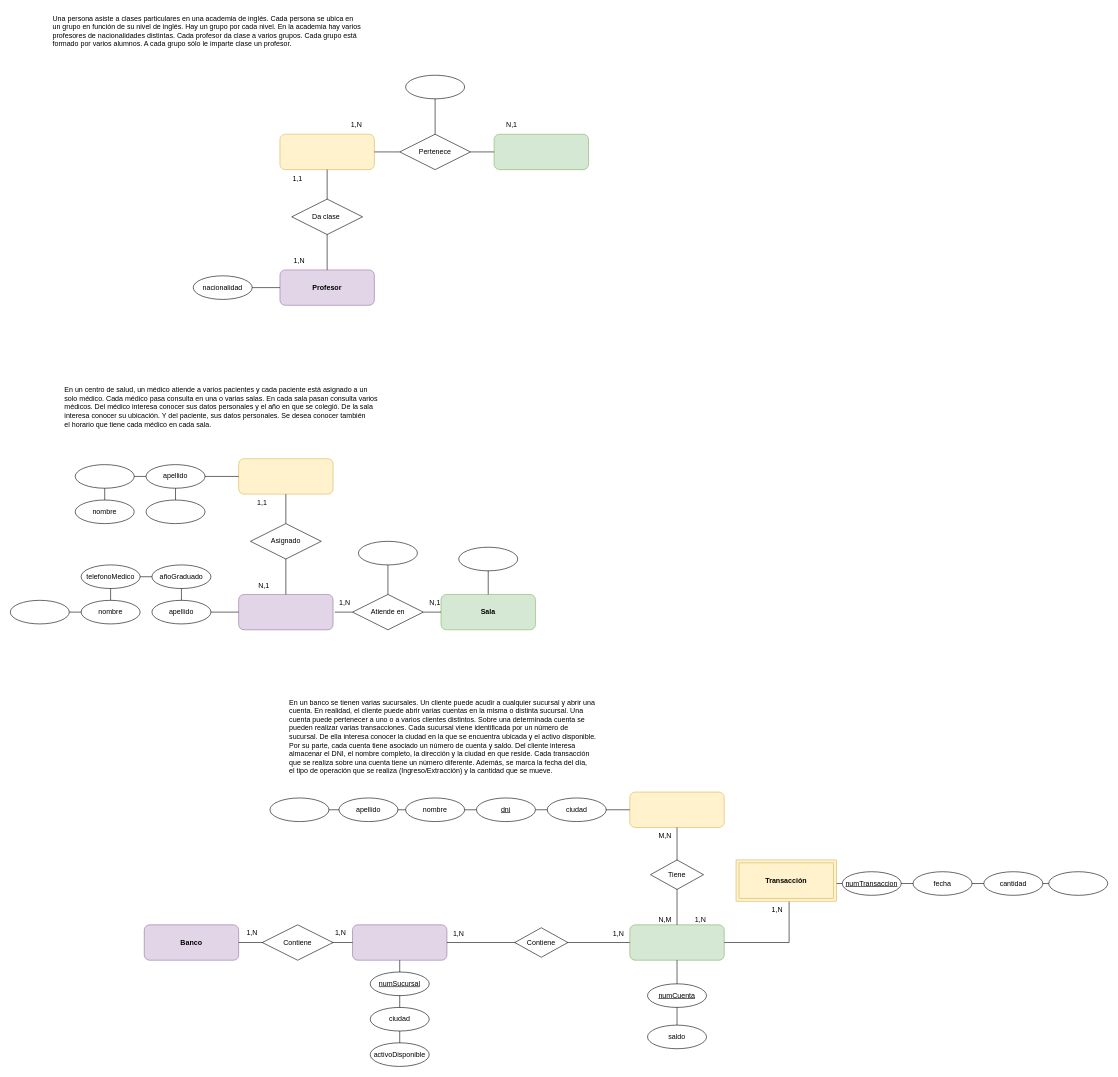
This 1118x1077 diagram has some shape labels left out. Each missing label, with the centre of its shape:
"Alumno" belongs at [541,152].
"Cliente" belongs at [676,809].
"Cuenta" belongs at [676,942].
"direccion" belongs at [299,809].
"dniMedico" belongs at [39,612].
"dniPaciente" belongs at [175,511].
"Grupo" belongs at [326,152].
"horario" belongs at [387,553].
"Medico" belongs at [285,612].
"nivel" belongs at [435,87].
"Paciente" belongs at [285,476].
"Sucursal" belongs at [399,942].
"telefonoPaciente" belongs at [104,476].
"tipoOperacion" belongs at [1078,883].
"ubicación" belongs at [488,559].
